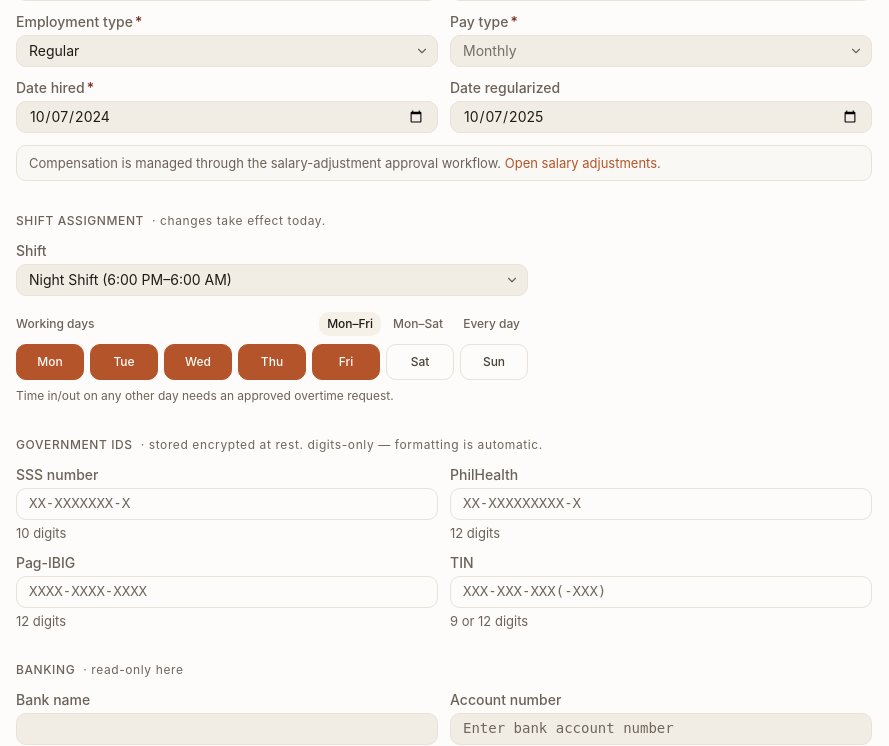
EmployeeForm edit mode › keeps Save disabled until something changes, and disables it again when the change is undone
(page scrolled)
Expected: the dropdown labelled "Shift" shows "Night Shift (6:00 PM–6:00 AM)", x1=17 y1=265 x2=527 y2=295
Click the button with aria-label "Saturday" at (420, 362), box x1=386 y1=344 x2=454 y2=380
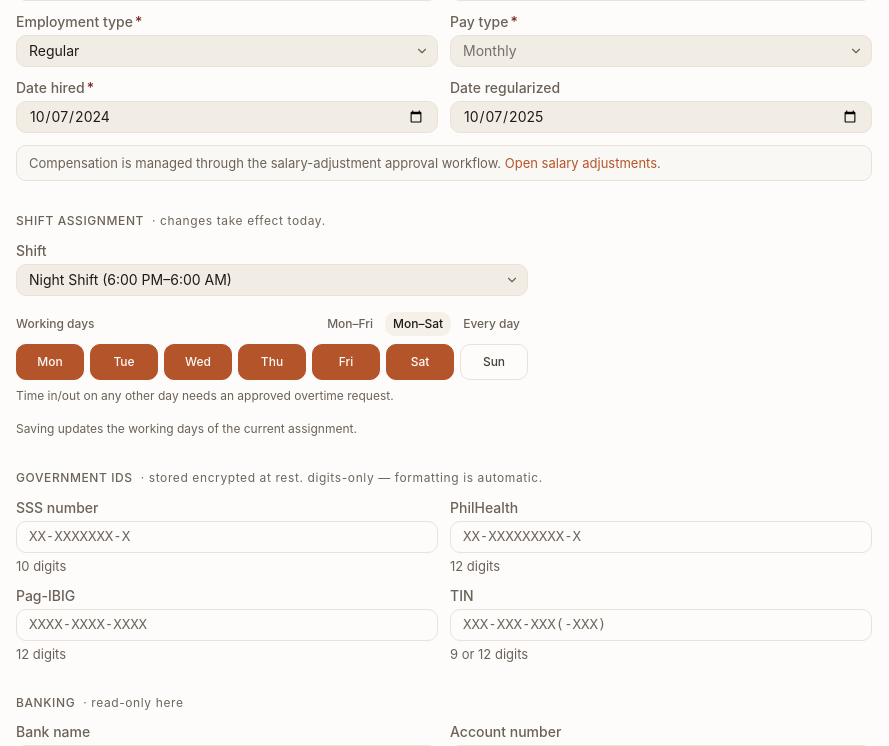
Click the button with aria-label "Saturday" at (420, 362), box x1=386 y1=344 x2=454 y2=380
(page scrolled)
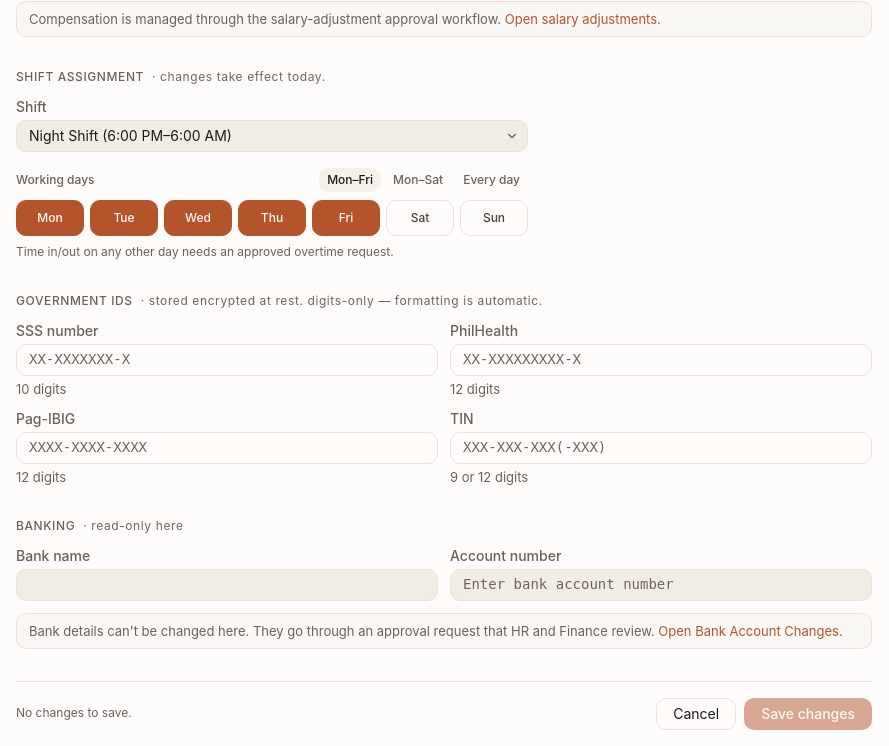
Now the button "Save changes" is disabled, box x1=744 y1=698 x2=872 y2=730
